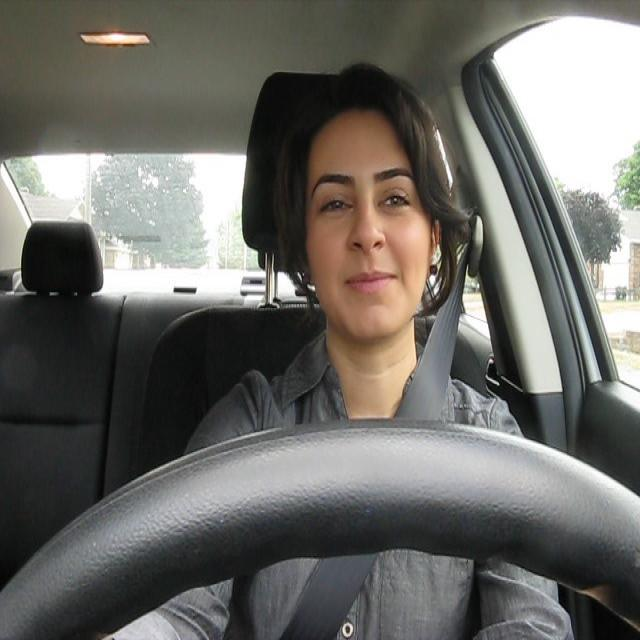sem_oculos: (304, 164, 442, 236)
